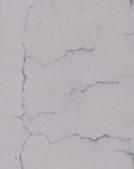fissura: (17, 5, 47, 169), (43, 126, 134, 161), (43, 44, 112, 73), (60, 74, 134, 100)
